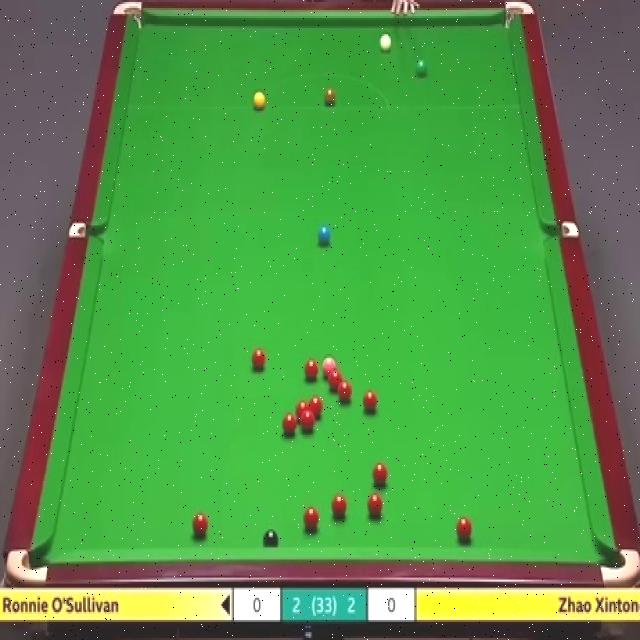black-ball: (264, 527, 282, 551)
blue-ball: (318, 226, 331, 246)
brown-ball: (323, 88, 335, 107)
green-ball: (414, 59, 428, 80)
pink-ball: (322, 354, 336, 377)
red-ball: (366, 491, 384, 519), (456, 516, 473, 543), (371, 461, 388, 488), (302, 507, 321, 531), (331, 492, 348, 518), (250, 346, 266, 372), (192, 511, 208, 536), (337, 382, 353, 406), (303, 357, 319, 381), (282, 412, 297, 436), (363, 390, 378, 413), (301, 408, 315, 431), (310, 395, 324, 418), (327, 370, 343, 389), (296, 400, 310, 418)
white-ball: (378, 31, 392, 52)
yellow-ball: (253, 88, 265, 111)
